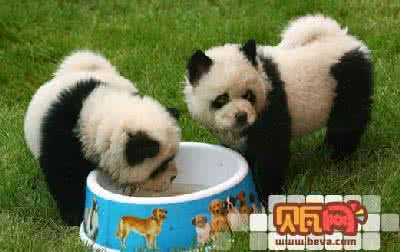panda: (182, 12, 386, 209), (22, 45, 186, 225)
